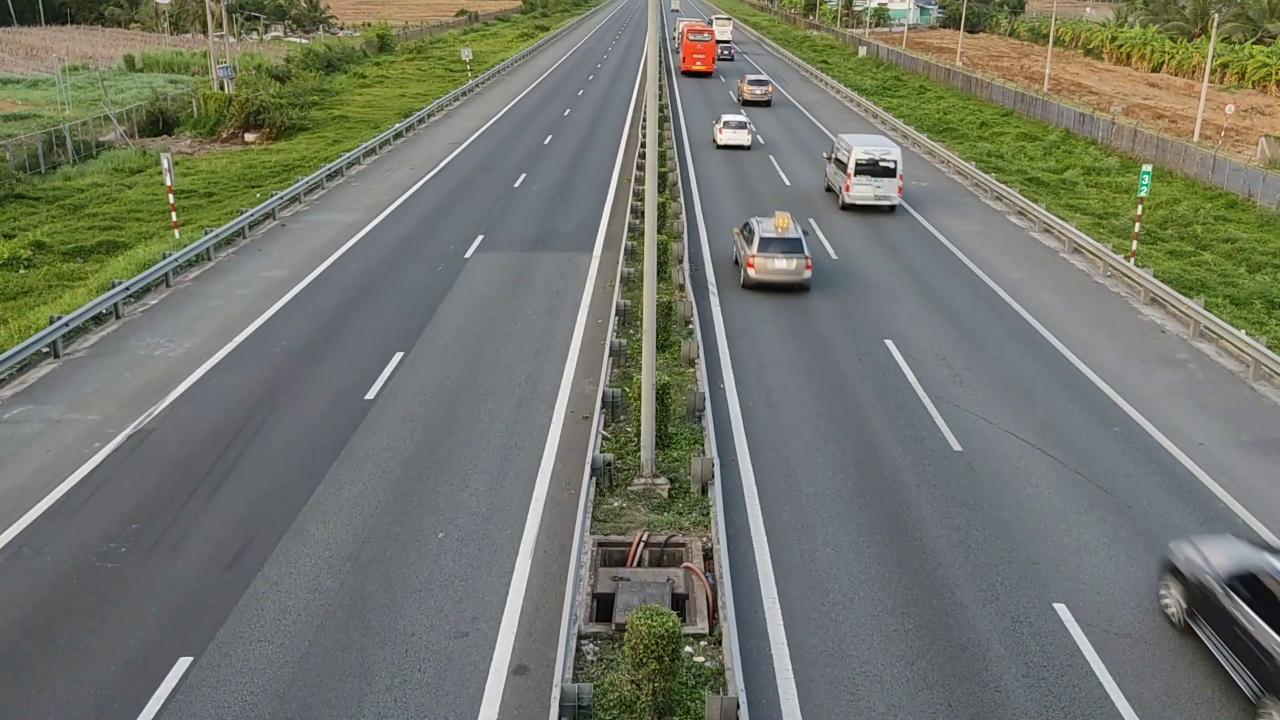car: (821, 131, 904, 211), (731, 212, 814, 291), (711, 113, 753, 149), (737, 74, 775, 105)
